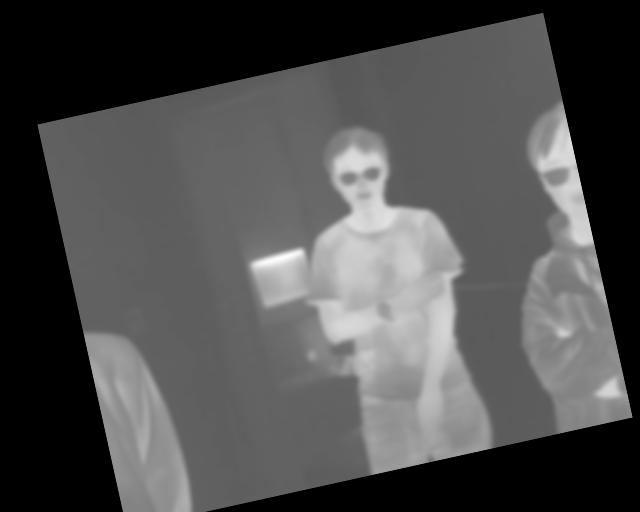face: (316, 118, 400, 217)
